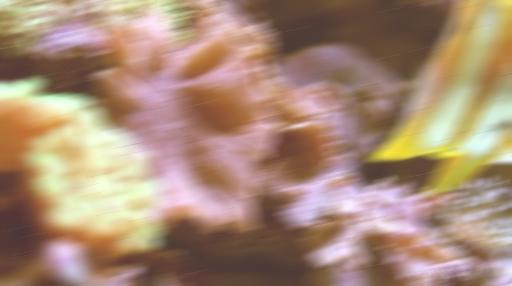Fish: (371, 0, 511, 195)
